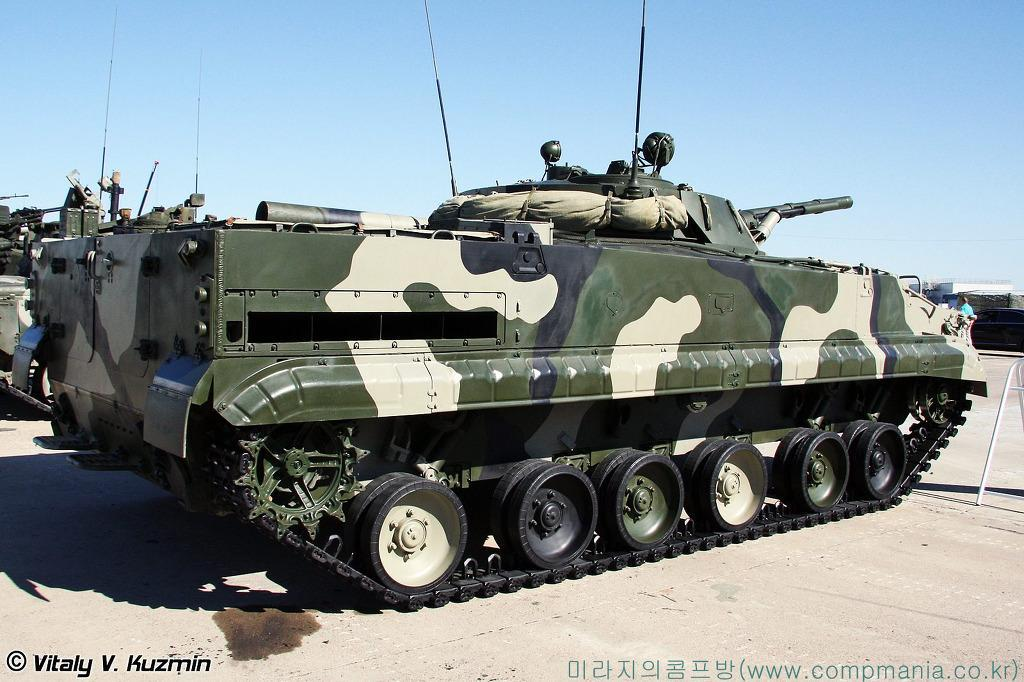MIL_IFV: (8, 123, 994, 606)
